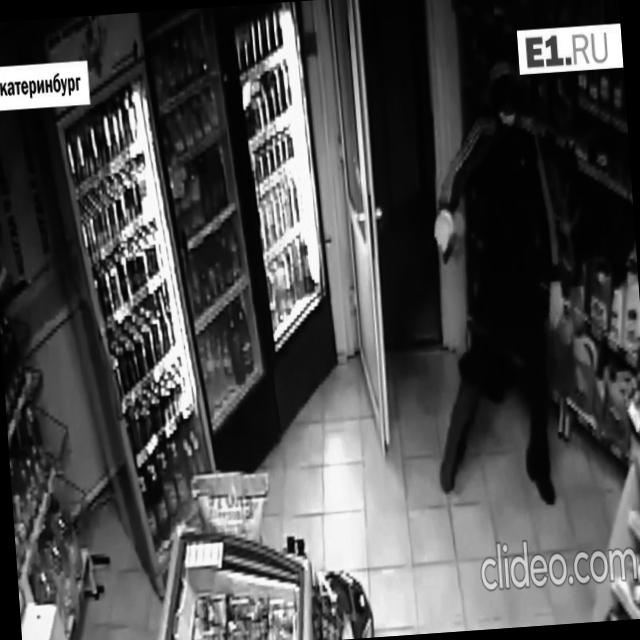gun: (440, 228, 461, 268)
person with a gun: (410, 46, 580, 514)
